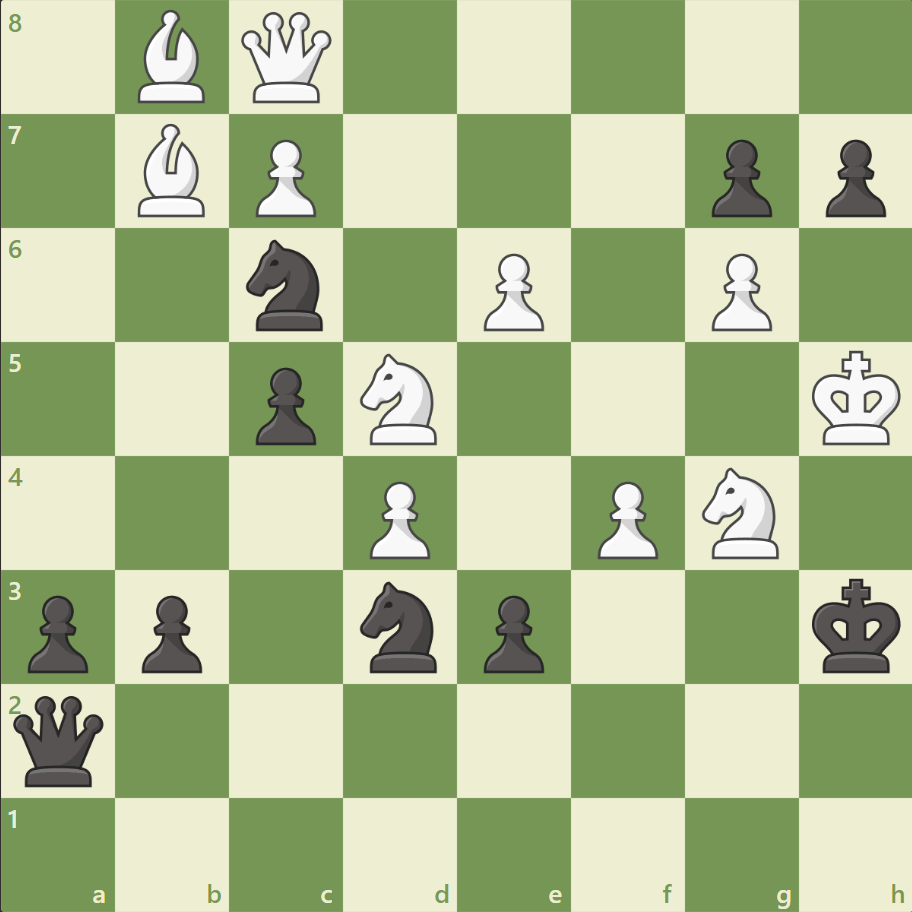B: (131, 6, 215, 109), (131, 120, 215, 222)
K: (806, 344, 906, 452)
N: (351, 348, 449, 450), (692, 461, 789, 564)
P: (247, 132, 322, 223), (474, 246, 549, 337), (701, 246, 776, 337), (361, 473, 435, 564), (588, 473, 662, 564)
Q: (237, 9, 336, 108)
k: (806, 571, 906, 679)
n: (351, 575, 449, 677), (238, 234, 335, 337)
p: (701, 132, 776, 223), (247, 359, 322, 450), (20, 586, 95, 677), (133, 586, 208, 677), (474, 586, 549, 677), (815, 132, 889, 223)
q: (10, 690, 109, 789)
